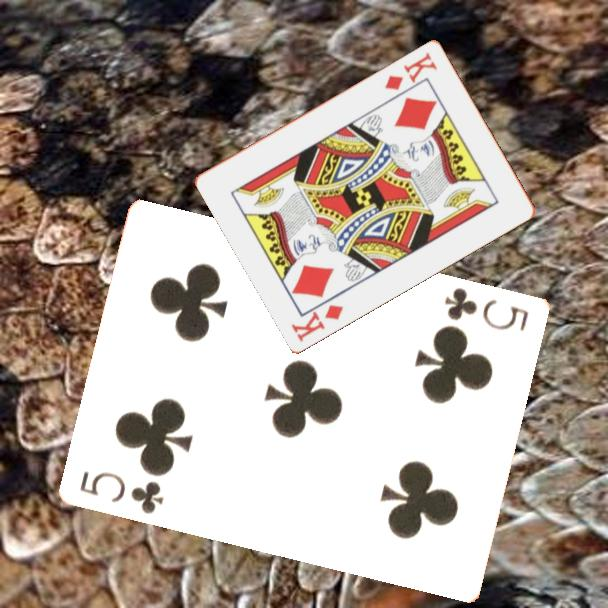c05: (441, 283, 532, 334), (77, 467, 168, 517)
d13: (381, 48, 440, 93), (288, 301, 347, 345)
